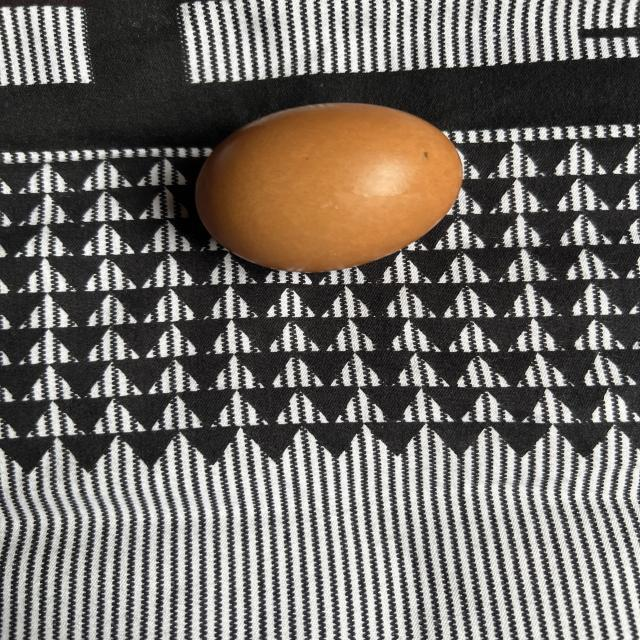egg: (189, 99, 466, 274)
